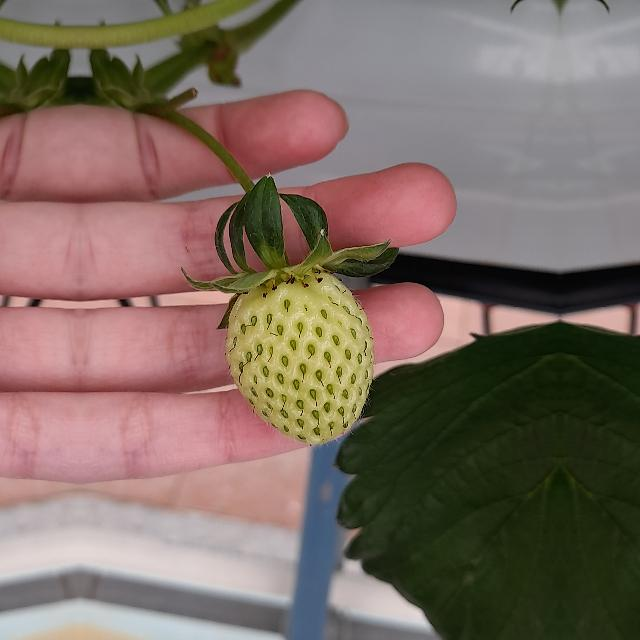Health_25: (224, 268, 374, 444)
